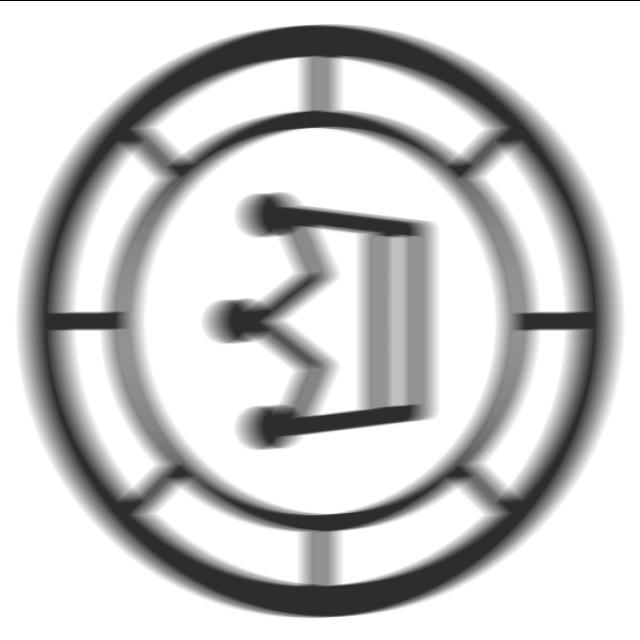coin: (11, 16, 633, 628)
